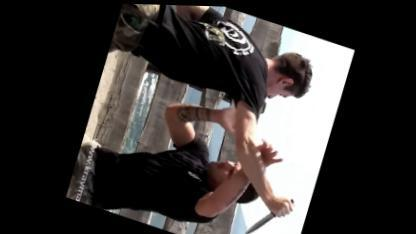knife: (240, 181, 298, 233)
